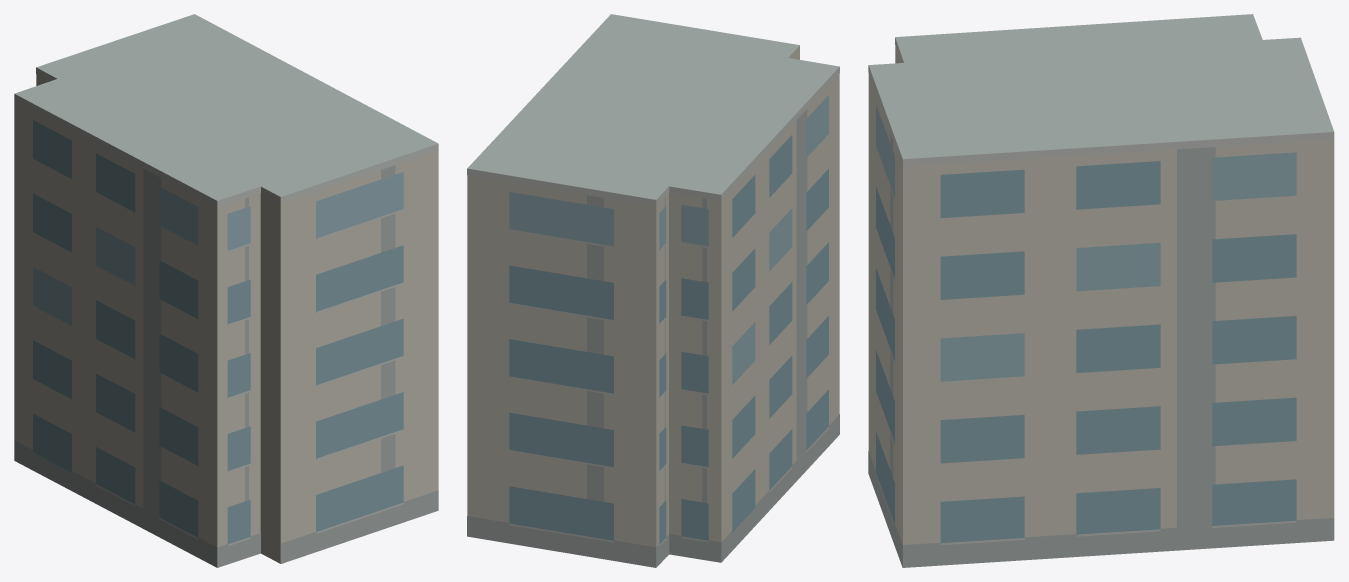
File: survey-upis-32576426.glb
3 views of the same model, side by side, from view 1: azimuth 30°, elevation 25°; view 2: azimuth 150°, elevation 25°; view 3: azimuth 270°, elevation 25° (orthographic). The views are drawn at different scales.
Visible parts, largest first — view 1: survey-upis-32576426.tmp; view 2: survey-upis-32576426.tmp; view 3: survey-upis-32576426.tmp.
Boxes of the visible parts, x1,y1,x2,y2 form: survey-upis-32576426.tmp: (14,14,438,567); survey-upis-32576426.tmp: (467,14,839,567); survey-upis-32576426.tmp: (868,14,1334,567).
Size of the model in its own units: 10.07 by 13.2 by 13.64.
